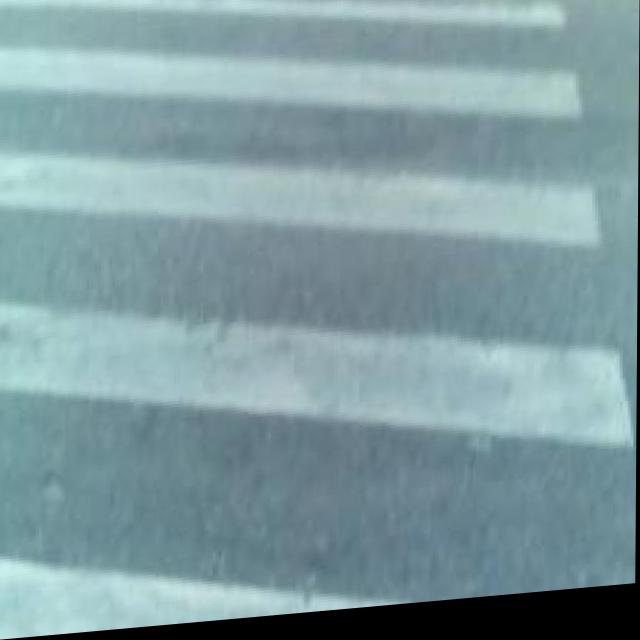zebra: (27, 0, 500, 638)
